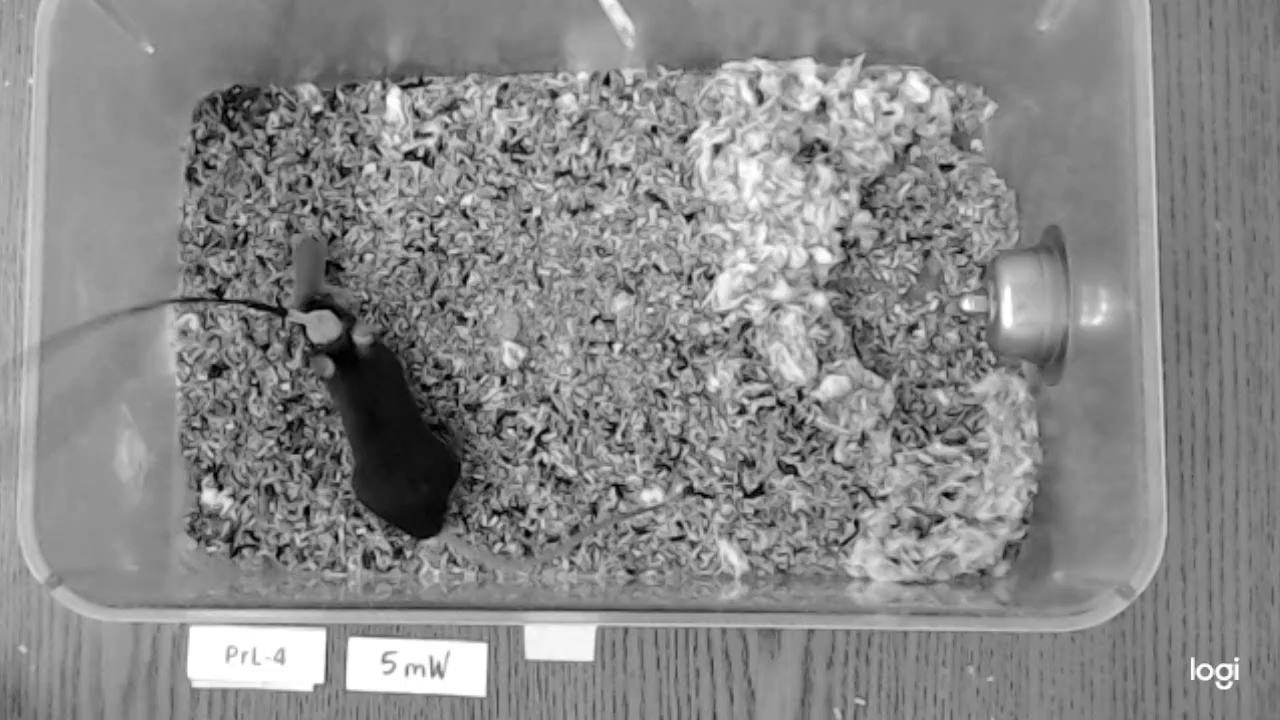child-mice: (289, 232, 326, 305)
